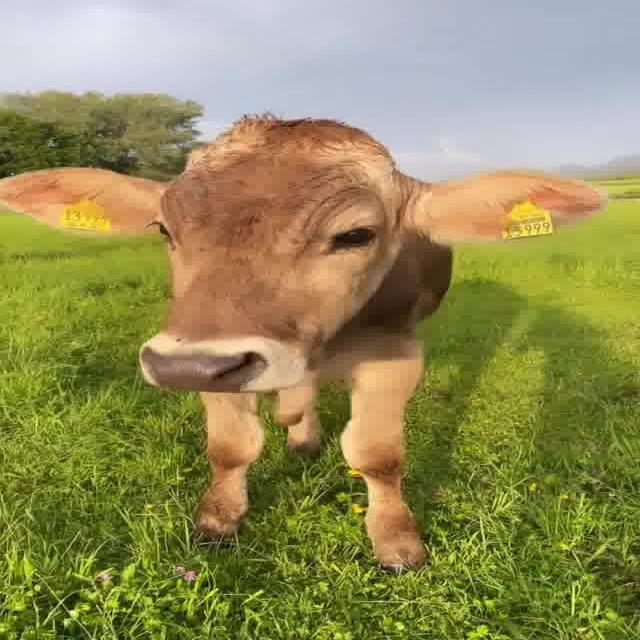cowFace: (16, 109, 611, 389)
